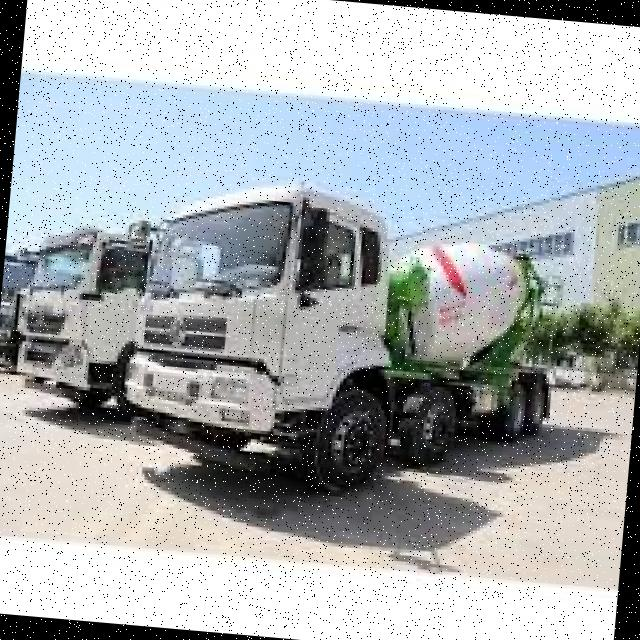Mixer Truck: (115, 164, 574, 518), (8, 212, 216, 428)
